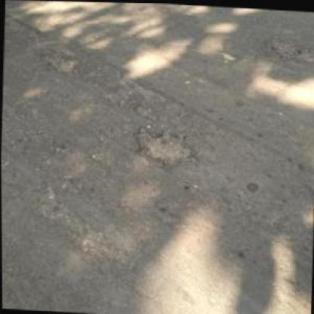Hueco: (132, 124, 197, 168)
